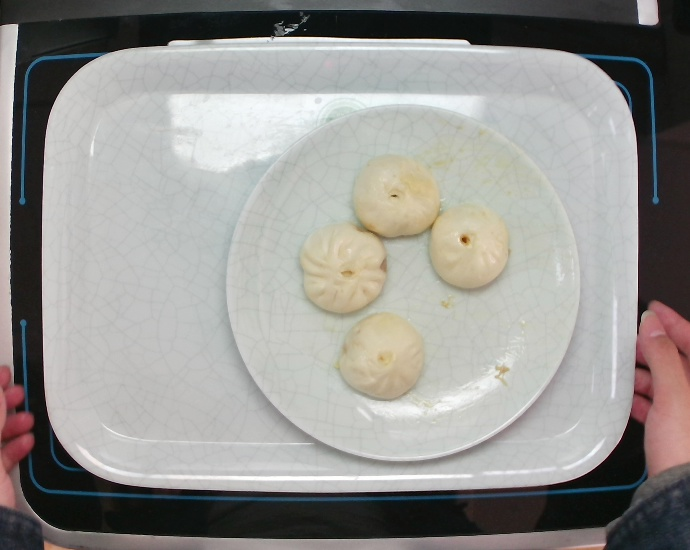JYsf-Da_Yuan_Pan: (222, 102, 583, 465)
